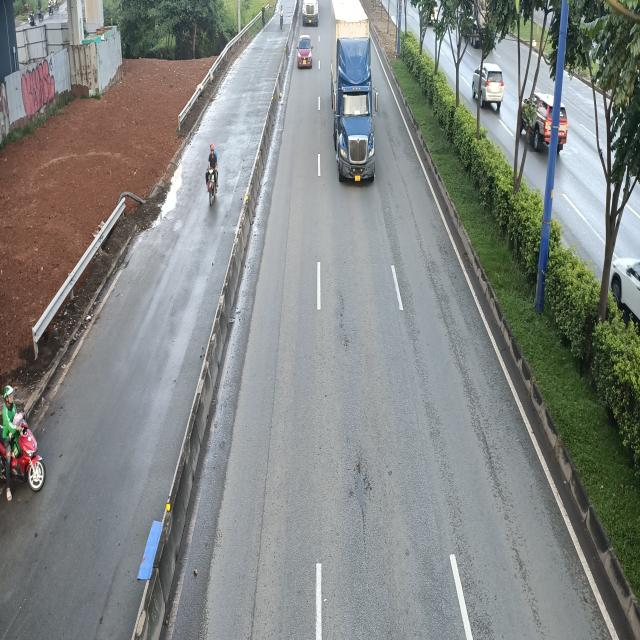car: (296, 34, 312, 69)
container: (331, 0, 377, 182), (302, 0, 322, 26)
